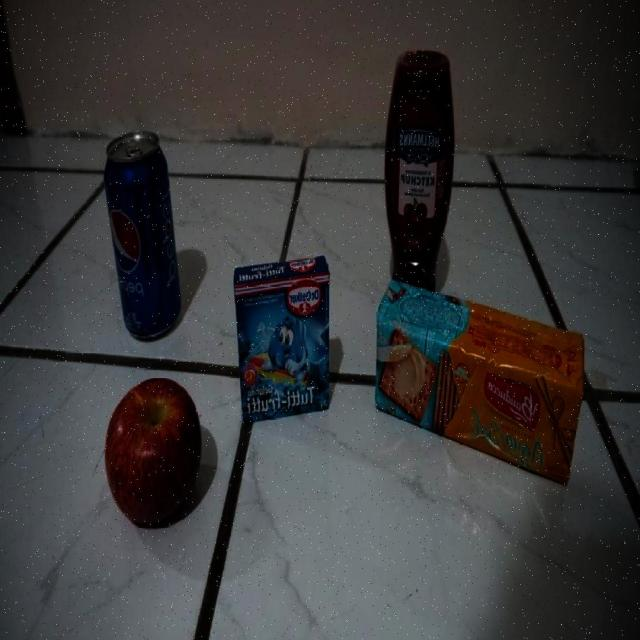Apple: (102, 367, 205, 530)
Cracker: (369, 279, 587, 485)
Gelatine: (232, 254, 334, 426)
Ketchup: (382, 50, 459, 276)
SodaCan: (100, 125, 183, 332)
